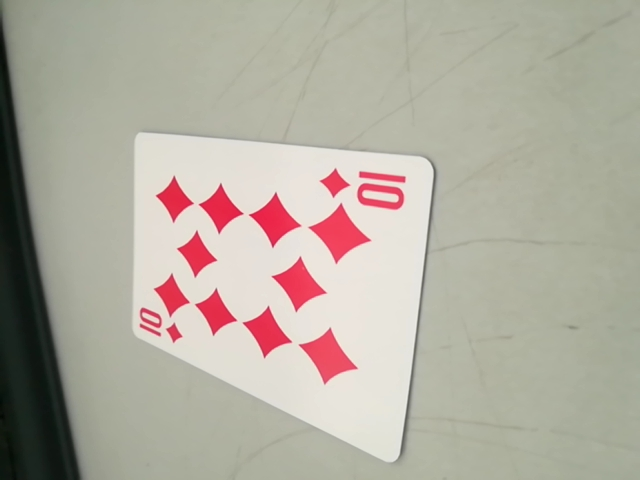fk 10: (319, 161, 415, 211), (130, 306, 189, 350)
